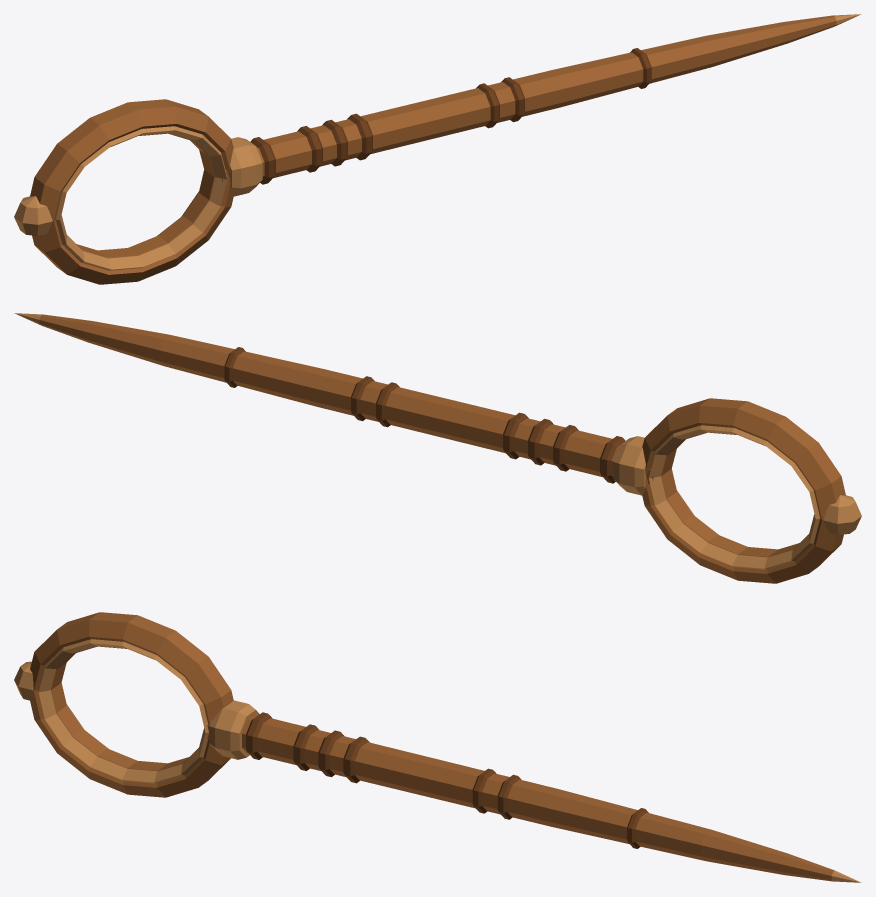
File: needle_bronze.glb
The picture shows the model from 3 angles, top to bottom: view 1: azimuth 30°, elevation 25°; view 2: azimuth 150°, elevation 25°; view 3: azimuth 330°, elevation 25°; orthographic projection.
Visible parts, largest first — view 1: needle_bronze; view 2: needle_bronze; view 3: needle_bronze.
Part boxes in pixels (<box>): needle_bronze: <box>14,14,861,284</box>; needle_bronze: <box>14,313,861,583</box>; needle_bronze: <box>14,612,861,882</box>.
Size of the model in its own units: 0.6065 by 0.1182 by 0.0329.
